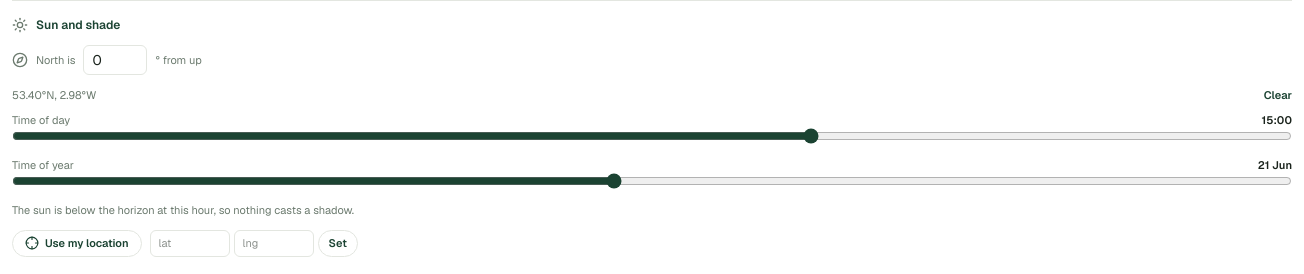
Scenario: the instant being drawn › moves the time of day
The width and height of the screenshot is (1304, 274).
Step 1. Set the slider labelled "Time of day" to "480" → (442, 136), box top-left (12, 128), bottom-right (1292, 144)
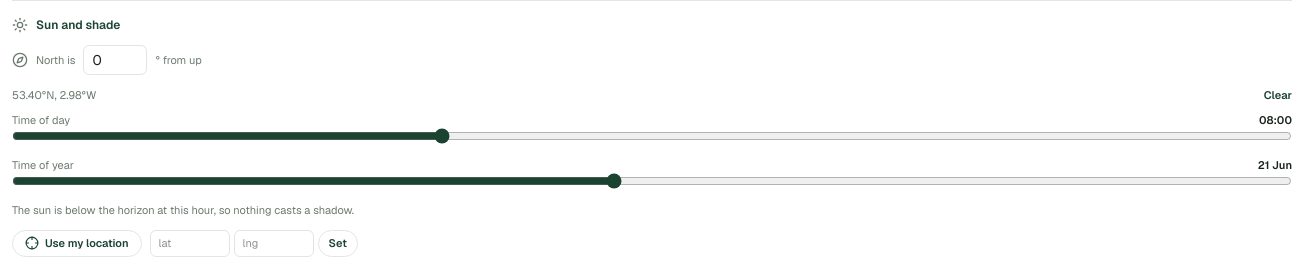
Expected: the text with test id "sun-time" reads "08:00", top-left (1259, 112), bottom-right (1292, 126)
